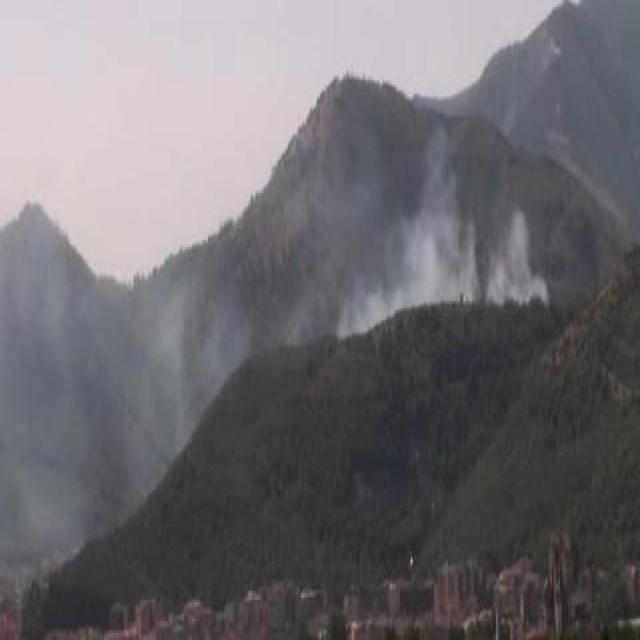Smoke: (335, 196, 545, 312)
